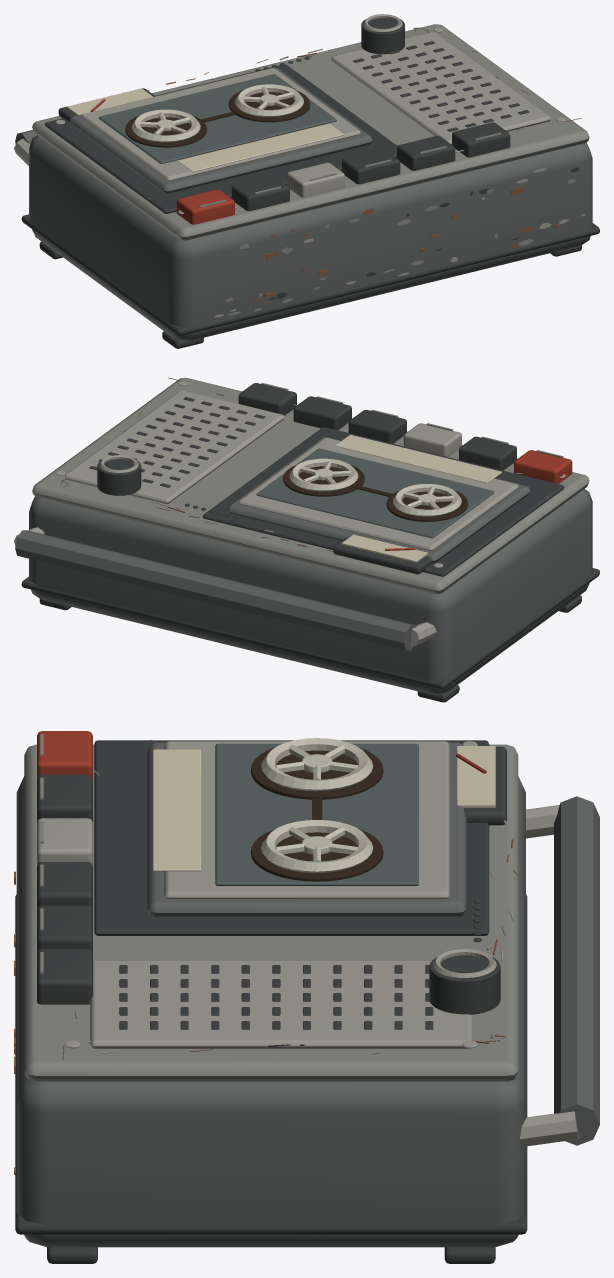
Rendered from cassette_recorder.fbx.
3 renders of one model, top to bottom at view 1: azimuth 30°, elevation 25°; view 2: azimuth 150°, elevation 25°; view 3: azimuth 270°, elevation 25°, orthographic. The views are drawn at different scales.
Visible parts, largest first — view 1: Recorder_01_Aged_Charcoal_Plastic, Recorder_03_Dark_Deck_Panel, Recorder_02_Worn_Edge_Plastic, Recorder_04_Tarnished_Steel, Recorder_06_Smoky_Cassette_Window, Recorder_10_Yellowed_Label, Recorder_07_Offwhite_Reel, Recorder_08_Magnetic_Tape, Recorder_09_Faded_Record_Red, Recorder_05_Rust_And_Grime; view 2: Recorder_01_Aged_Charcoal_Plastic, Recorder_03_Dark_Deck_Panel, Recorder_02_Worn_Edge_Plastic, Recorder_04_Tarnished_Steel, Recorder_06_Smoky_Cassette_Window, Recorder_10_Yellowed_Label, Recorder_07_Offwhite_Reel, Recorder_08_Magnetic_Tape, Recorder_09_Faded_Record_Red; view 3: Recorder_01_Aged_Charcoal_Plastic, Recorder_03_Dark_Deck_Panel, Recorder_04_Tarnished_Steel, Recorder_02_Worn_Edge_Plastic, Recorder_06_Smoky_Cassette_Window, Recorder_10_Yellowed_Label, Recorder_07_Offwhite_Reel, Recorder_08_Magnetic_Tape, Recorder_09_Faded_Record_Red.
Part boxes in pixels (<box>): Recorder_01_Aged_Charcoal_Plastic: <box>15,67,592,340</box>; Recorder_03_Dark_Deck_Panel: <box>21,18,599,348</box>; Recorder_02_Worn_Edge_Plastic: <box>32,24,589,315</box>; Recorder_04_Tarnished_Steel: <box>14,14,584,317</box>; Recorder_06_Smoky_Cassette_Window: <box>98,74,336,163</box>; Recorder_10_Yellowed_Label: <box>67,88,344,172</box>; Recorder_07_Offwhite_Reel: <box>131,84,303,142</box>; Recorder_08_Magnetic_Tape: <box>125,90,310,147</box>; Recorder_09_Faded_Record_Red: <box>90,98,234,224</box>; Recorder_05_Rust_And_Grime: <box>166,27,581,303</box>; Recorder_01_Aged_Charcoal_Plastic: <box>15,437,592,694</box>; Recorder_03_Dark_Deck_Panel: <box>21,383,599,702</box>; Recorder_02_Worn_Edge_Plastic: <box>32,377,589,594</box>; Recorder_04_Tarnished_Steel: <box>14,381,572,646</box>; Recorder_06_Smoky_Cassette_Window: <box>256,448,494,538</box>; Recorder_10_Yellowed_Label: <box>335,434,501,562</box>; Recorder_07_Offwhite_Reel: <box>289,458,461,516</box>; Recorder_08_Magnetic_Tape: <box>283,464,467,521</box>; Recorder_09_Faded_Record_Red: <box>385,450,572,550</box>; Recorder_01_Aged_Charcoal_Plastic: <box>16,742,599,1247</box>; Recorder_03_Dark_Deck_Panel: <box>15,740,527,1263</box>; Recorder_04_Tarnished_Steel: <box>37,739,579,1146</box>; Recorder_02_Worn_Edge_Plastic: <box>24,734,518,1081</box>; Recorder_06_Smoky_Cassette_Window: <box>215,743,418,885</box>; Recorder_10_Yellowed_Label: <box>153,746,495,871</box>; Recorder_07_Offwhite_Reel: <box>261,738,372,872</box>; Recorder_08_Magnetic_Tape: <box>251,747,383,881</box>; Recorder_09_Faded_Record_Red: <box>37,731,486,778</box>.
Size of the model in its own units: 0.311 by 0.1074 by 0.23.
